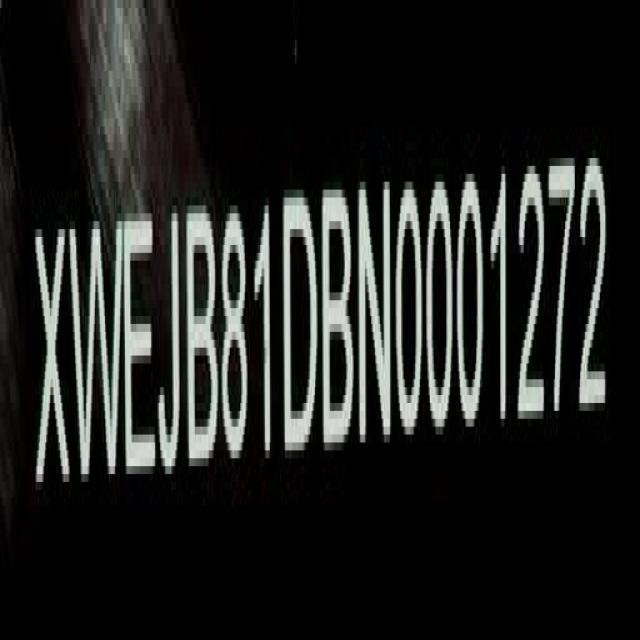0: (397, 178, 425, 444), (455, 168, 483, 434), (426, 177, 454, 440)
1: (255, 195, 278, 471), (488, 166, 509, 440)
2: (518, 162, 548, 432), (578, 147, 608, 416)
7: (548, 151, 577, 425)
8: (220, 201, 250, 471)
B: (323, 183, 355, 460), (186, 204, 218, 480)
D: (284, 187, 318, 464)
E: (125, 212, 156, 490)
J: (155, 205, 186, 480)
N: (359, 172, 392, 446)
W: (71, 212, 124, 495)
X: (36, 218, 71, 499)
